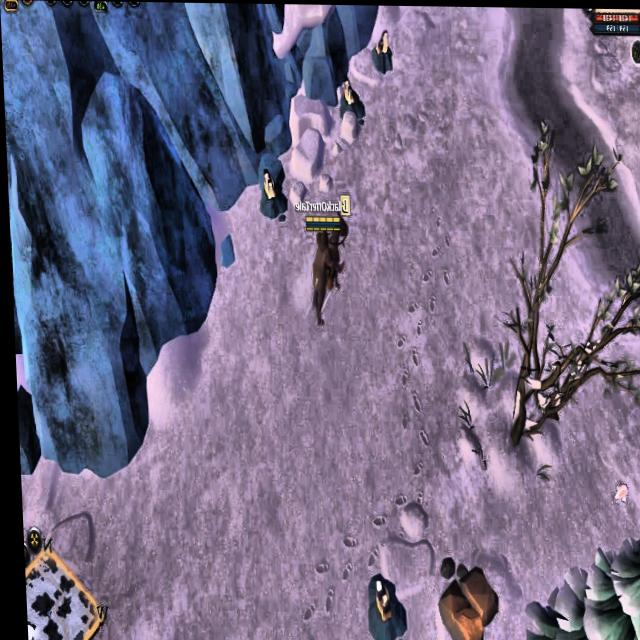copperore: (356, 569, 405, 640), (256, 167, 288, 220), (368, 28, 397, 77), (335, 74, 364, 122)
limestone: (433, 557, 496, 640)
